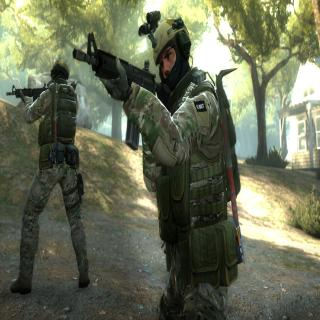CT-Body: (138, 13, 239, 320), (14, 57, 82, 298)
CT-Head: (148, 14, 194, 91), (50, 58, 68, 90)
